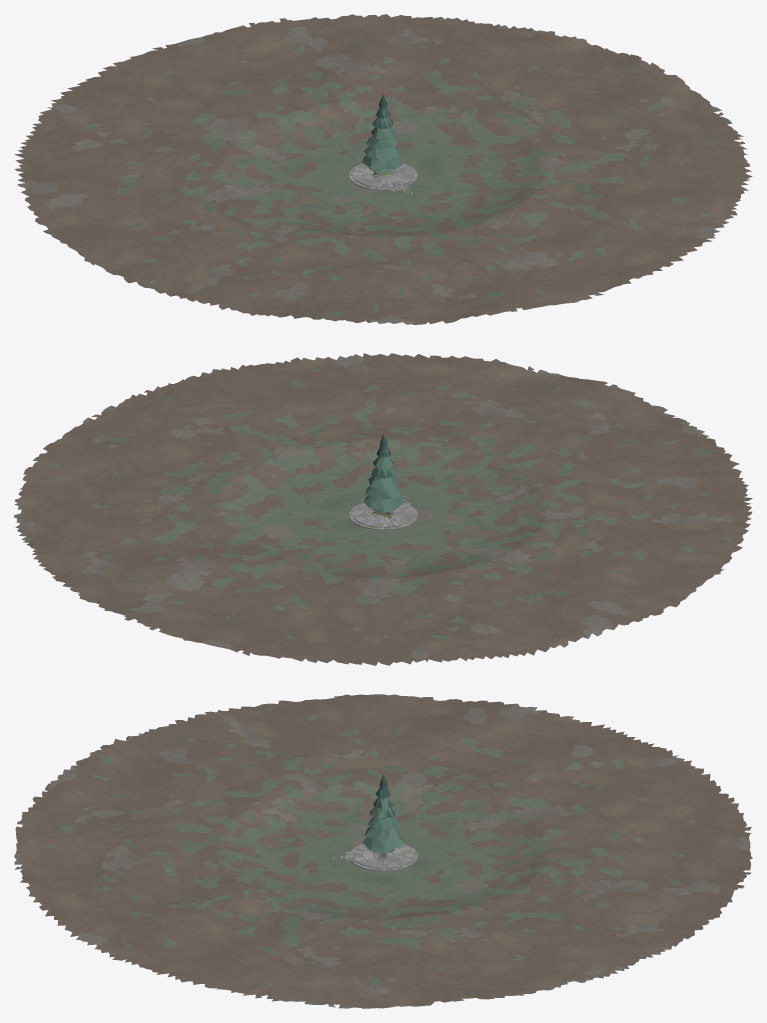
The model's file is altar_lowpoly.glb.
3 renders of one model, top to bottom at view 1: azimuth 30°, elevation 25°; view 2: azimuth 150°, elevation 25°; view 3: azimuth 270°, elevation 25°, orthographic.
Parts seen in each view (by area): view 1: Ground, Pine3, Dais; view 2: Ground, Pine3, Dais; view 3: Ground, Pine3, Dais.
Boxes of the visible parts, x1,y1,x2,y2 form: Ground: (14, 14, 752, 324); Pine3: (362, 94, 401, 169); Dais: (349, 163, 417, 191); Ground: (14, 353, 752, 665); Pine3: (364, 434, 405, 510); Dais: (349, 502, 417, 530); Ground: (14, 694, 752, 1008); Pine3: (362, 774, 404, 848); Dais: (345, 843, 418, 870).
Size of the model in its own units: 181 by 22.61 by 181.
